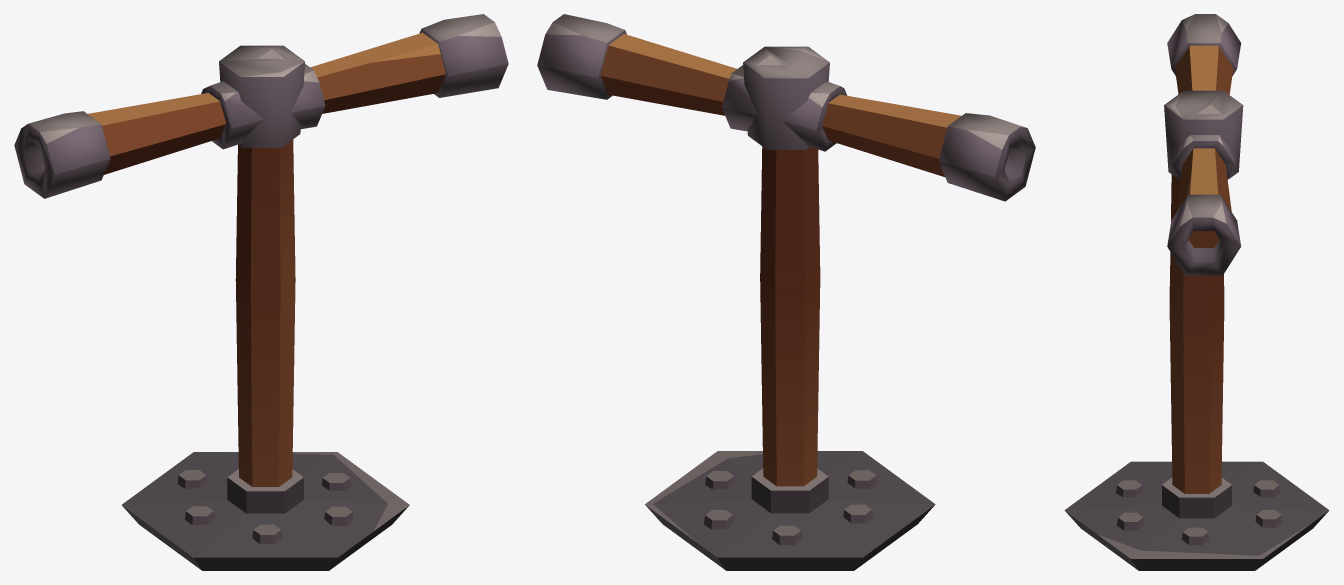
Rendered from mashine1_part1.fbx.
The picture shows the model from 3 angles, left to right: view 1: azimuth 30°, elevation 25°; view 2: azimuth 150°, elevation 25°; view 3: azimuth 270°, elevation 25°; orthographic projection. The views are drawn at different scales.
Parts seen in each view (by area): view 1: Circle.036; view 2: Circle.036; view 3: Circle.036.
Boxes of the visible parts, left/top/right/bottom form: Circle.036: left=14, top=14, right=508, bottom=570; Circle.036: left=537, top=14, right=1035, bottom=570; Circle.036: left=1064, top=14, right=1329, bottom=570.
Bounding box in the file's own units: 48.36 × 46.87 × 26.61.
